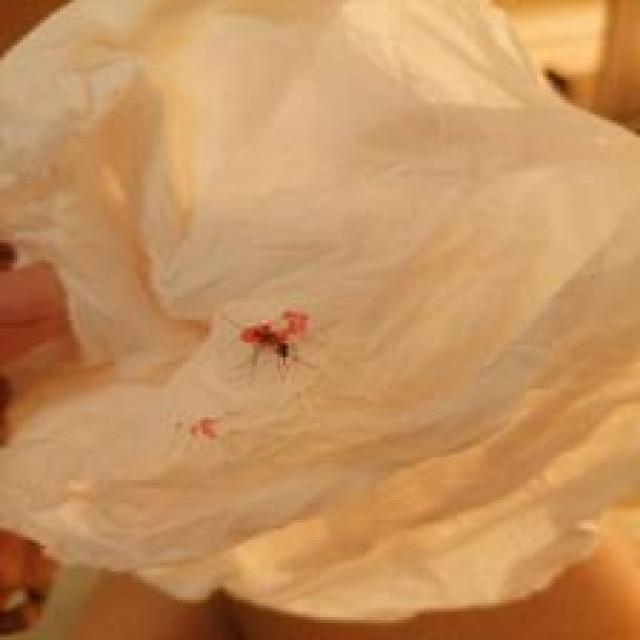Culex: (236, 307, 313, 373)
